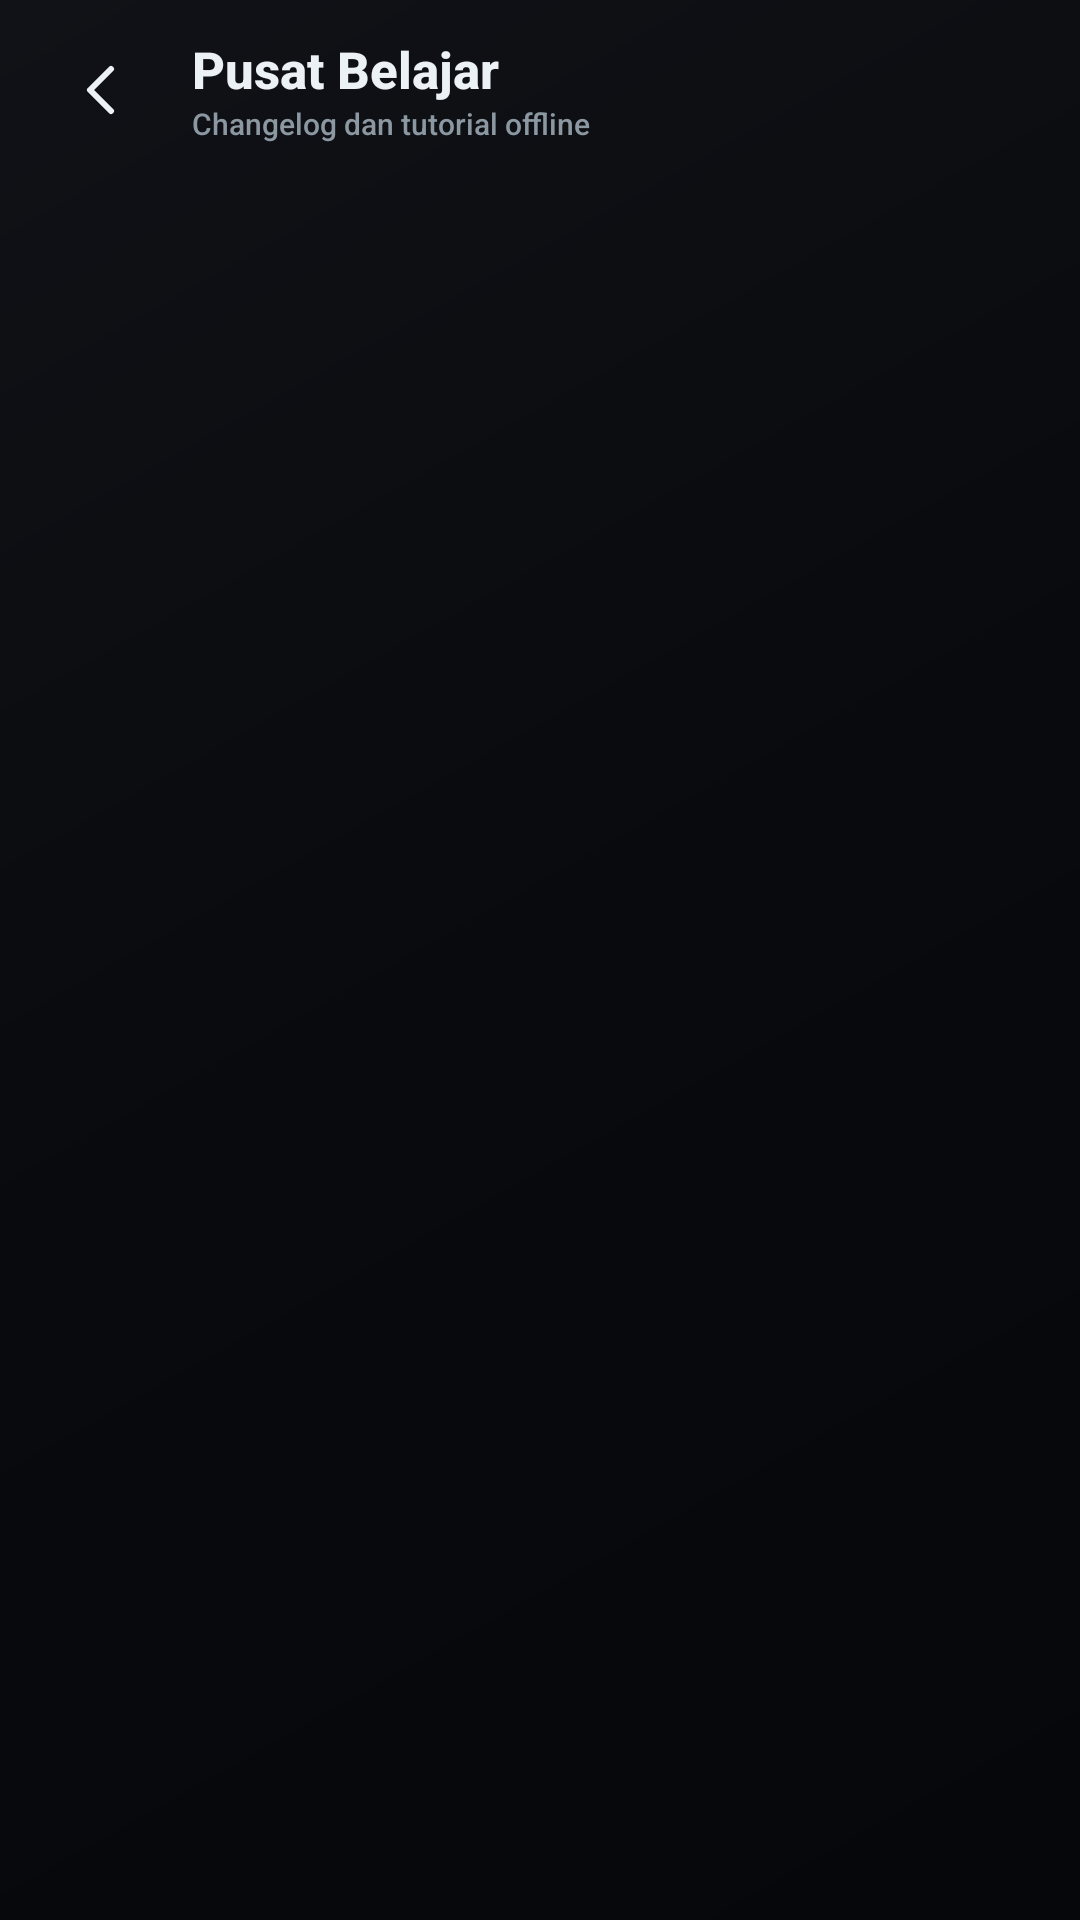

Point at icon controls on the screen. Image size 1080 × 1920, points as [x,y].
Kembali: [100,90]
